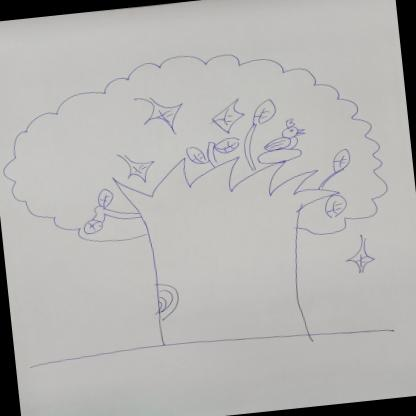bird: (254, 118, 308, 165)
branch_sharp: (109, 142, 340, 232)
crown_cloud: (0, 36, 391, 266)
knot: (152, 280, 182, 322)
root_none: (150, 314, 326, 382)
trunk_straight: (146, 231, 308, 332)
